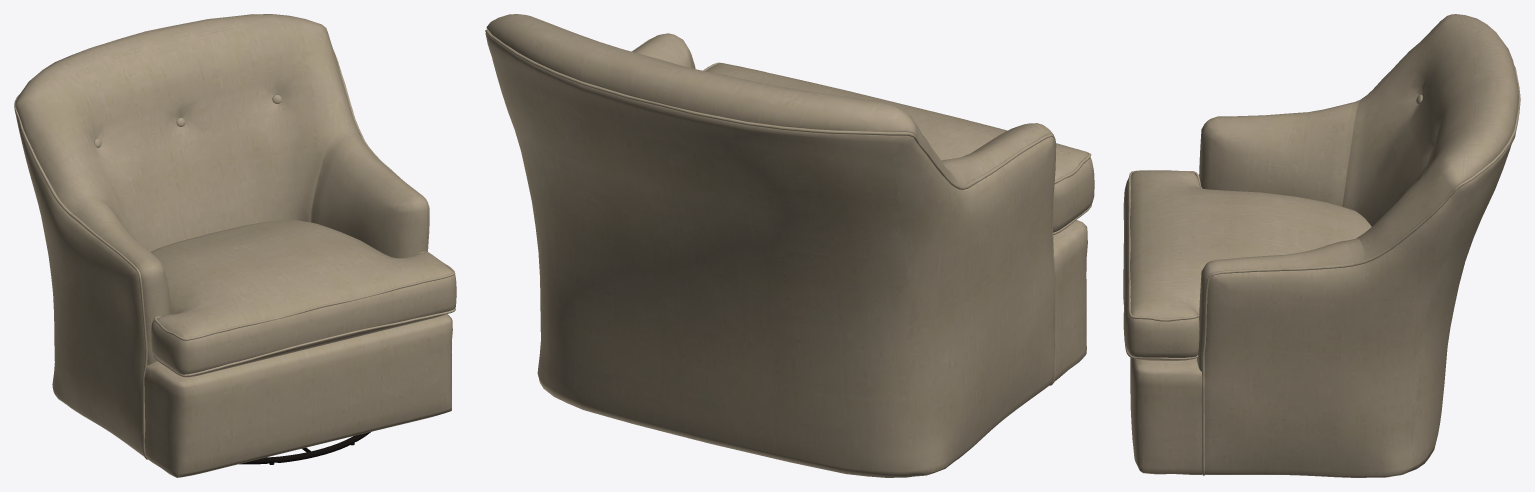
The model's file is abo-B07JQKSDN2.glb.
3 views of the same model, side by side, from view 1: azimuth 30°, elevation 25°; view 2: azimuth 150°, elevation 25°; view 3: azimuth 270°, elevation 25° (orthographic). The views are drawn at different scales.
Bounding box in the file's own units: 0.923 × 0.856 × 0.923.
1 material, 1 textured.
